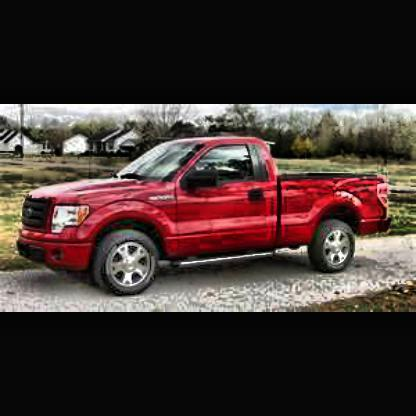Ford F-150 Regular Cab 2012: (21, 132, 398, 298)
